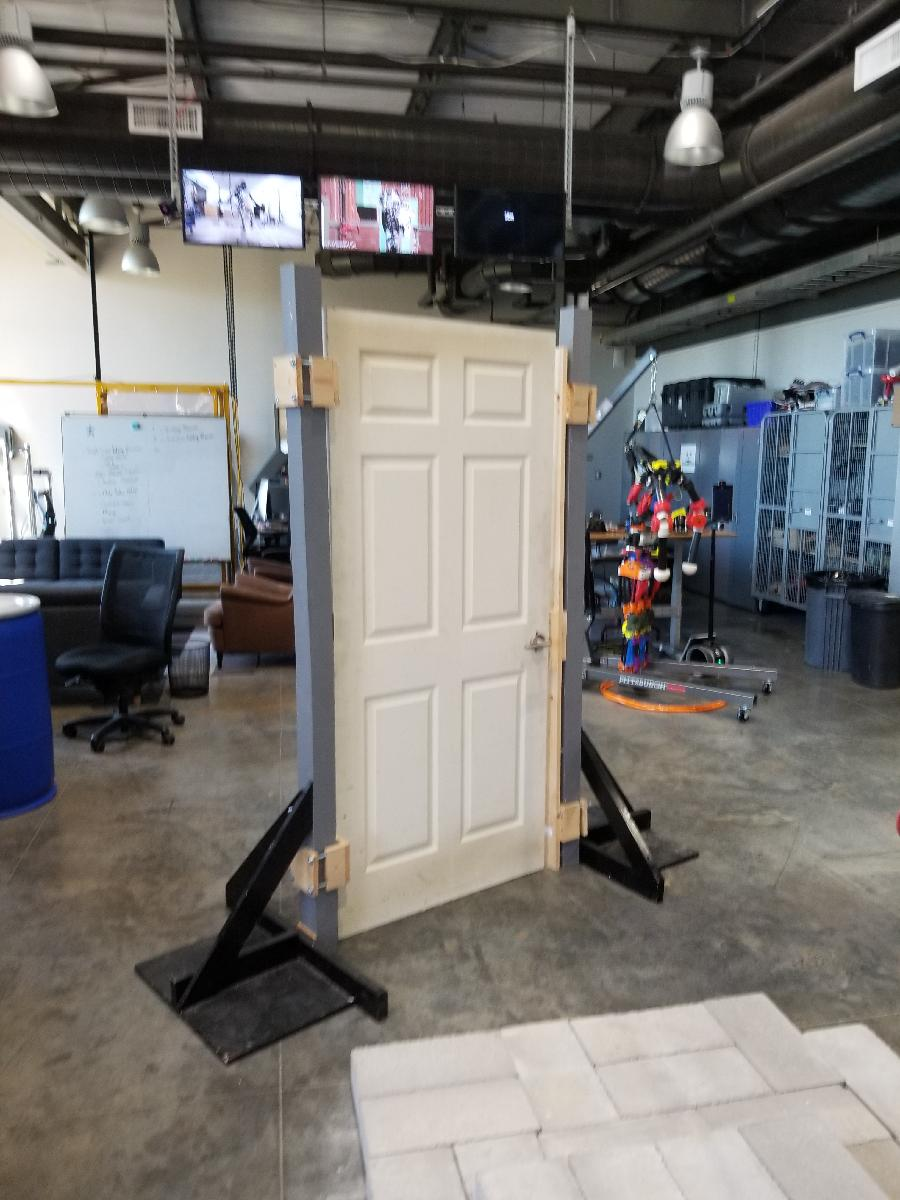door: (310, 303, 558, 939)
doorHandle: (521, 628, 554, 662)
